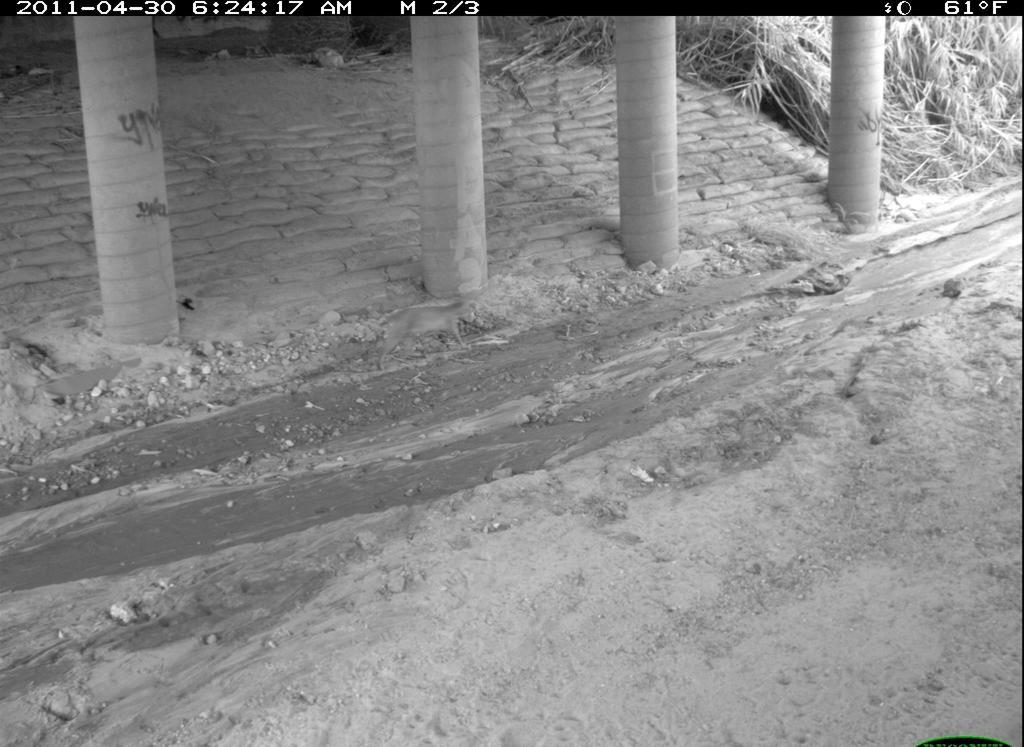bobcat: (742, 584, 957, 747)
